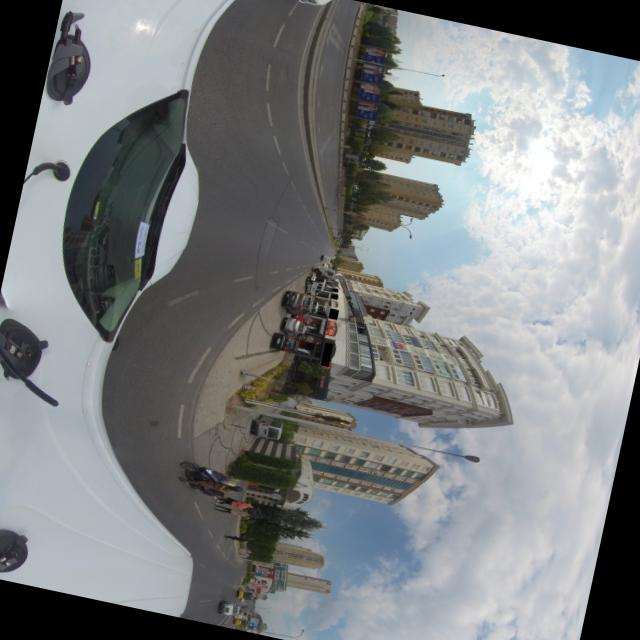SignStore: (321, 342, 330, 366), (324, 320, 334, 336), (327, 308, 336, 319), (329, 293, 335, 299), (331, 287, 336, 292)
